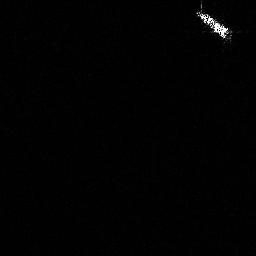ship: (193, 7, 232, 44)
